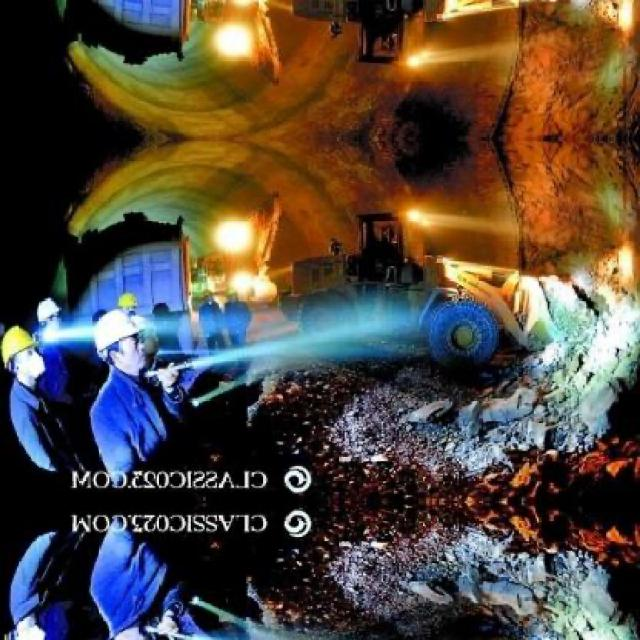helmet: (94, 311, 146, 372), (2, 320, 43, 382), (123, 316, 160, 356), (34, 294, 64, 337), (1, 622, 44, 638), (115, 291, 140, 315), (226, 284, 242, 302), (200, 288, 217, 302)
